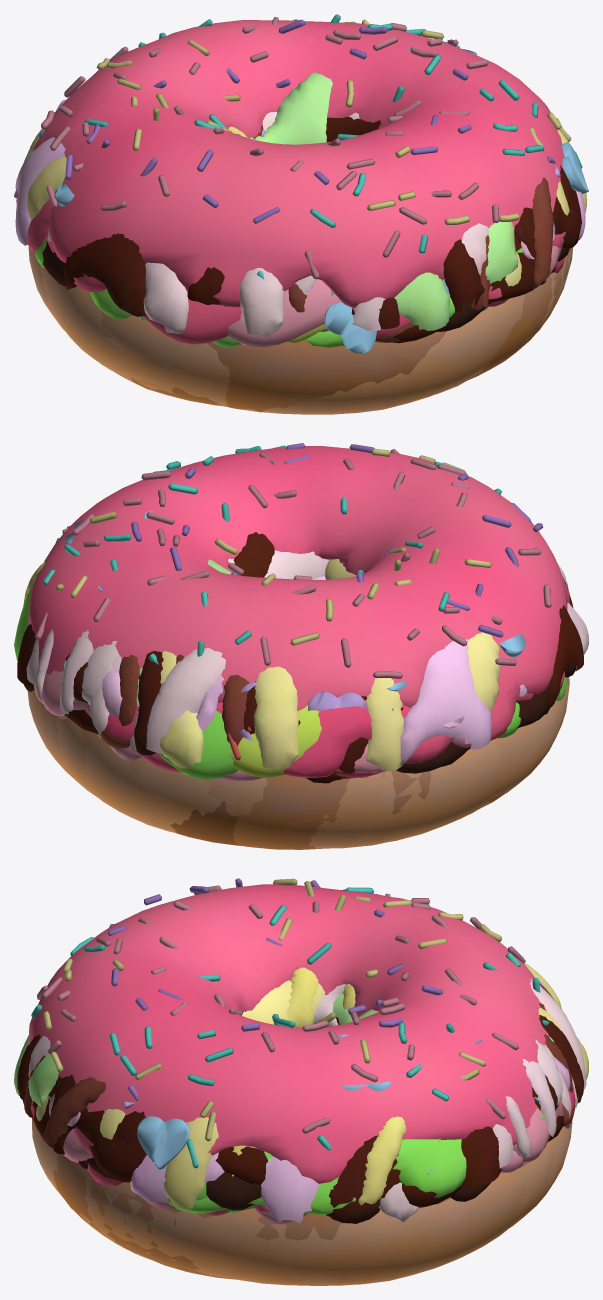
The model's file is donuts.glb.
The picture shows the model from 3 angles, top to bottom: view 1: azimuth 30°, elevation 25°; view 2: azimuth 150°, elevation 25°; view 3: azimuth 270°, elevation 25°; orthographic projection.
Visible parts, largest first — view 1: Donut12, Donut2, Donut5, Donut9, Donut6, Donut7, Donut4, Donut10, Donut1; view 2: Donut12, Donut9, Donut1, Donut7, Donut6, Donut4, Donut10, Donut8, Donut2, Donut5, Donut11; view 3: Donut12, Donut1, Donut5, Donut6, Donut7, Donut9, Donut3, Donut8, Donut4, Donut2, Donut10.
Boxes of the visible parts, x1,y1,x2,y2 form: Donut12: (32, 14, 582, 307); Donut2: (40, 72, 569, 414); Donut5: (207, 125, 581, 412); Donut9: (16, 111, 565, 405); Donut6: (42, 223, 569, 406); Donut7: (15, 137, 585, 394); Donut4: (87, 117, 572, 380); Donut10: (14, 41, 588, 353); Donut1: (23, 83, 586, 361); Donut12: (28, 443, 569, 719); Donut9: (26, 550, 588, 848); Donut1: (14, 559, 567, 841); Donut7: (33, 576, 526, 835); Donut6: (17, 579, 583, 849); Donut4: (65, 532, 490, 845); Donut10: (18, 511, 565, 816); Donut8: (34, 629, 141, 762); Donut2: (97, 559, 561, 797); Donut5: (69, 654, 466, 783); Donut11: (228, 705, 393, 777); Donut12: (29, 878, 549, 1204); Donut1: (36, 963, 588, 1285); Donut5: (24, 983, 572, 1270); Donut6: (23, 1076, 501, 1279); Donut7: (63, 1055, 572, 1227); Donut9: (28, 978, 586, 1224); Donut3: (226, 967, 406, 1212); Donut8: (313, 984, 577, 1162); Donut4: (17, 1015, 583, 1256); Donut2: (14, 994, 562, 1203); Donut10: (49, 980, 575, 1213).
Size of the model in its own units: 129 by 64.47 by 130.
Materials: 1 (1 with a texture image).
